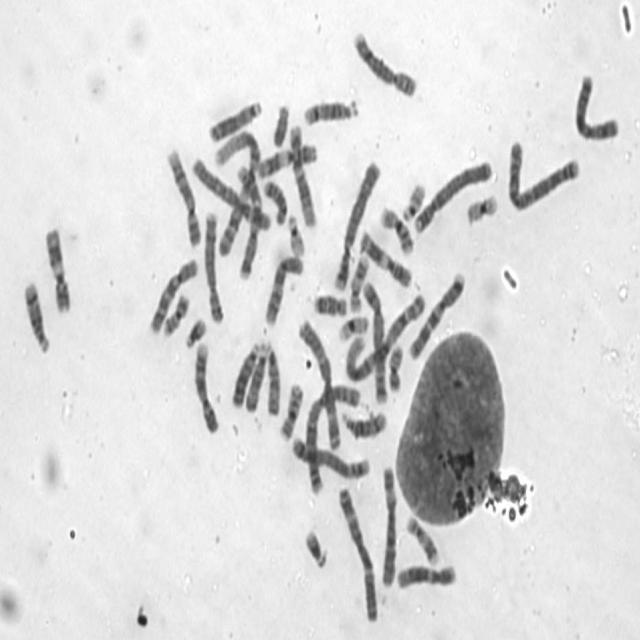A1: (342, 289, 428, 383), (215, 125, 263, 261)
A2: (303, 379, 362, 498), (504, 136, 581, 214)
A3: (295, 314, 342, 450), (336, 482, 380, 624)
B4: (327, 162, 384, 298), (411, 156, 493, 237)
B5: (288, 432, 372, 480), (360, 276, 388, 406)
C10: (146, 254, 199, 337), (262, 250, 304, 328)
C11: (356, 227, 414, 290), (254, 139, 318, 180), (43, 227, 72, 315)
C12: (287, 120, 318, 229), (393, 558, 458, 590)
C6: (190, 153, 272, 232), (378, 462, 398, 591)
C7: (406, 268, 466, 362), (235, 162, 262, 284)
C8: (351, 26, 418, 100), (201, 208, 225, 326)
C9: (164, 144, 202, 248), (192, 338, 220, 434)
D13: (206, 96, 264, 144), (230, 338, 260, 410)
D14: (22, 278, 52, 356), (301, 95, 360, 128), (338, 404, 388, 441)
D15: (243, 346, 267, 414), (264, 339, 282, 418)
E16: (378, 202, 416, 257), (276, 378, 304, 442)
E17: (404, 512, 440, 566), (348, 252, 370, 314)
E18: (262, 177, 288, 228), (310, 290, 348, 318)
F19: (464, 190, 498, 227), (336, 312, 370, 344)
F20: (160, 290, 191, 337), (386, 340, 406, 394)
G21: (301, 524, 330, 572), (184, 315, 208, 349)
G22: (400, 180, 427, 222), (286, 211, 306, 258)
X: (571, 70, 620, 144)
Y: (270, 100, 291, 150)
